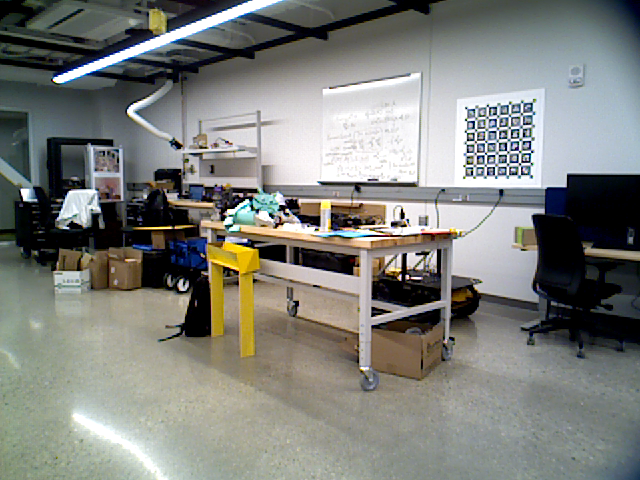painting4: (458, 92, 541, 187)
